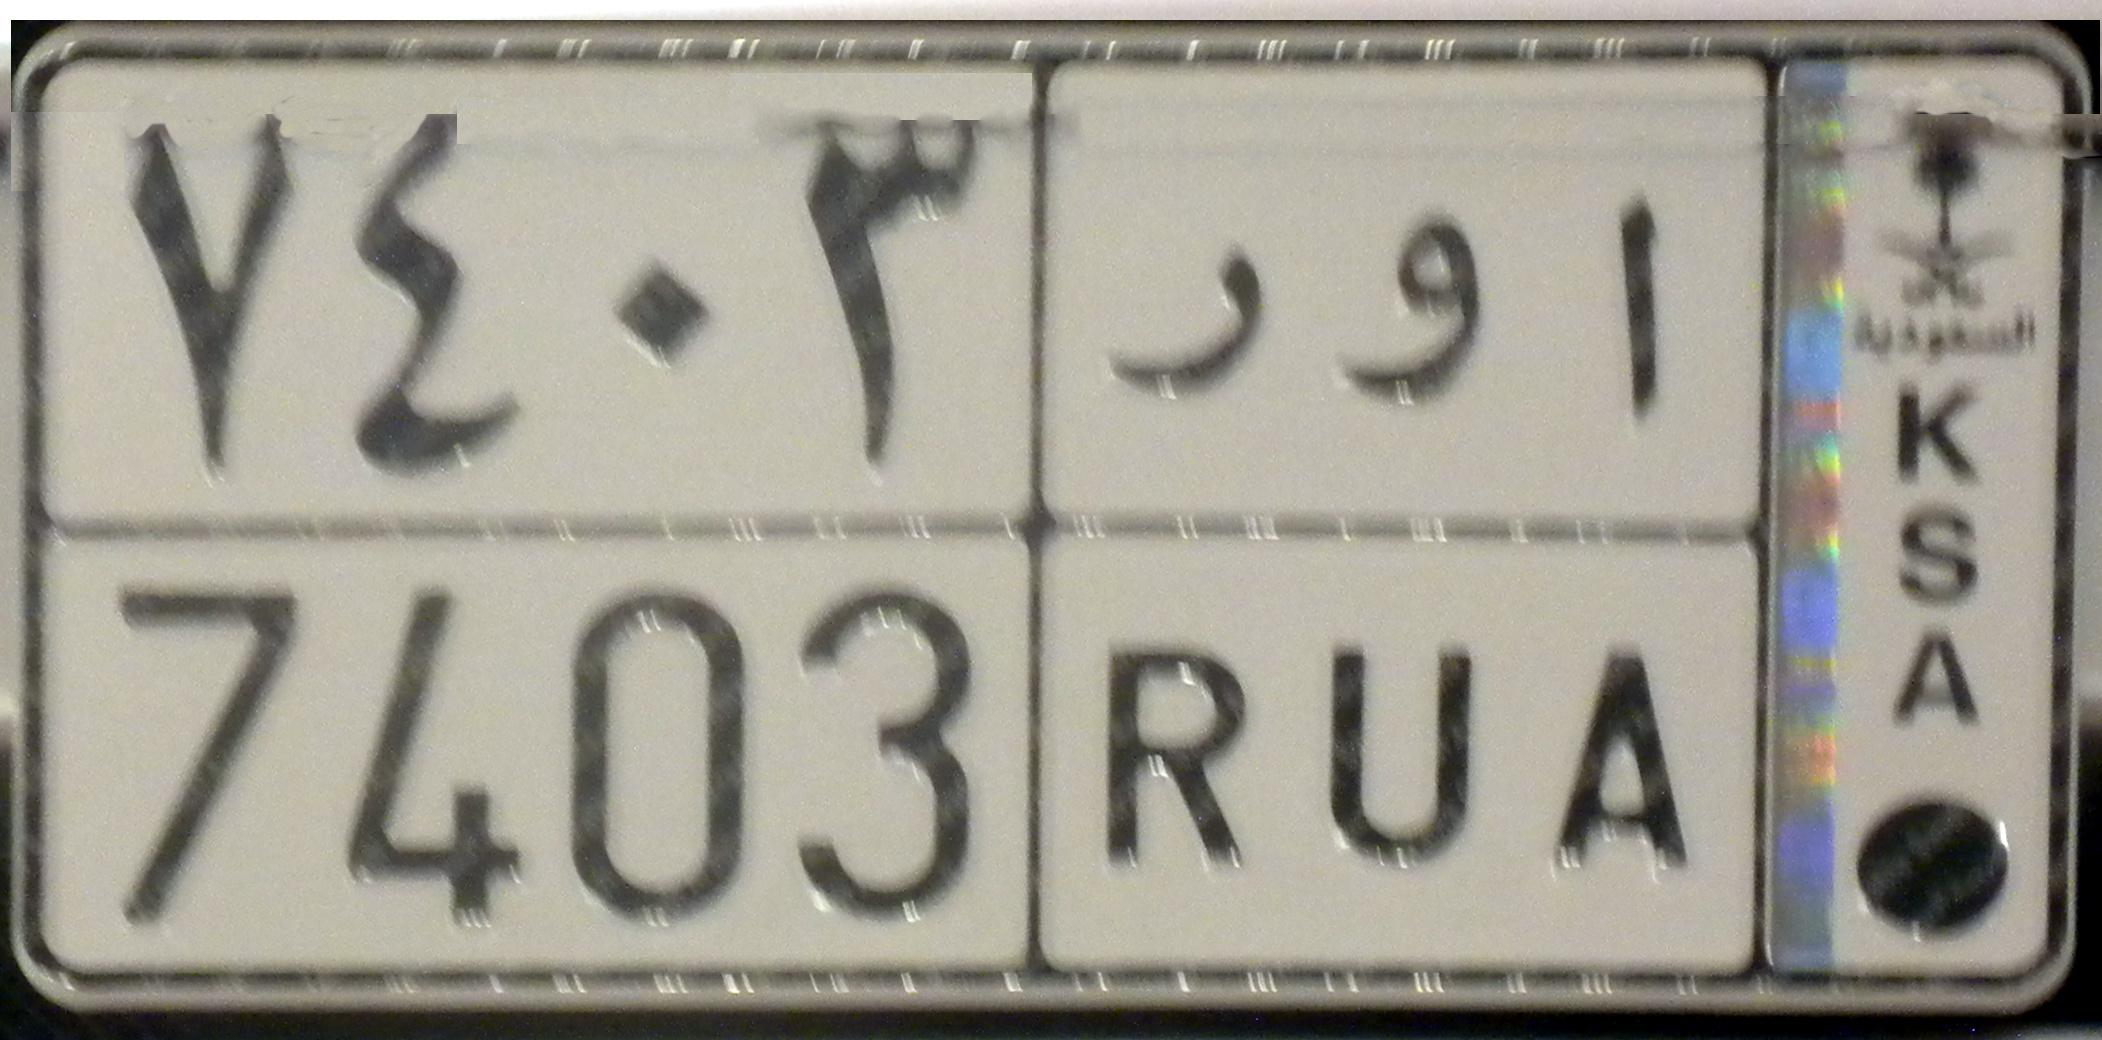0: (562, 256, 754, 938)
3: (798, 111, 976, 929)
4: (343, 109, 531, 931)
7: (118, 110, 305, 945)
A: (1546, 190, 1701, 887)
R: (1098, 237, 1269, 881)
U: (1320, 205, 1484, 869)
